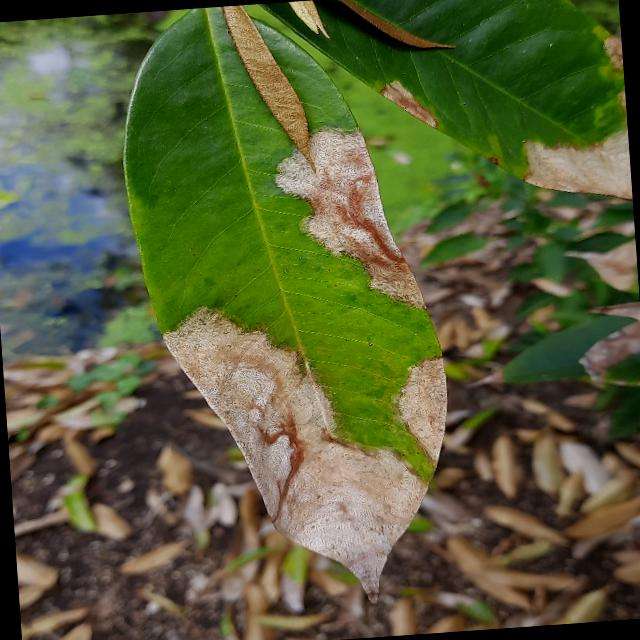Leaf Blight: (105, 0, 470, 625)
